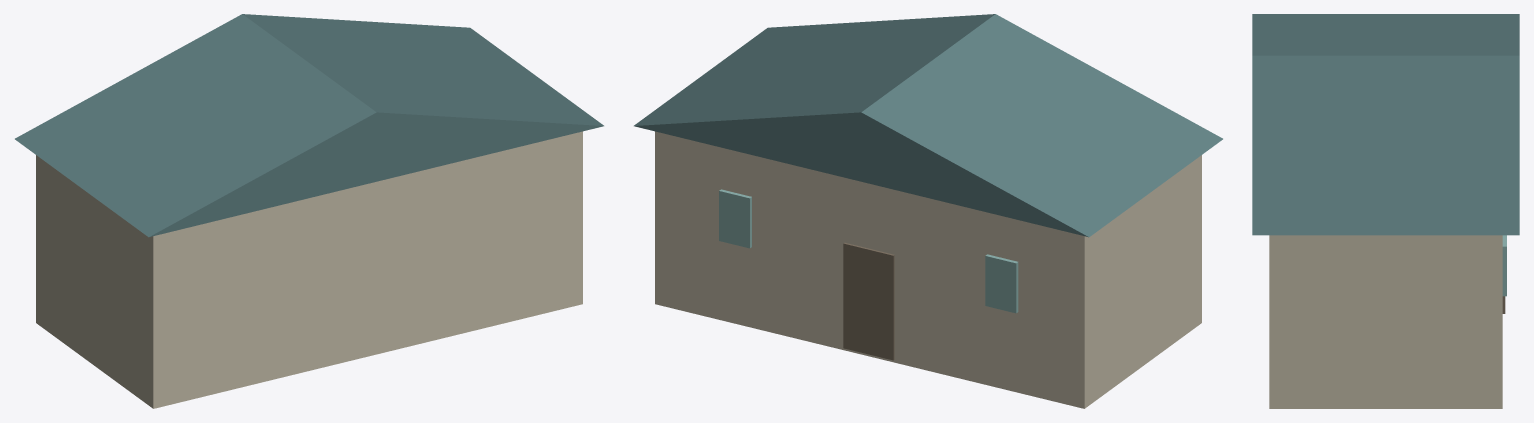
The model's file is city_library.glb.
The picture shows the model from 3 angles, left to right: view 1: azimuth 30°, elevation 25°; view 2: azimuth 150°, elevation 25°; view 3: azimuth 270°, elevation 25°; orthographic projection.
Parts seen in each view (by area): view 1: library; view 2: library; view 3: library.
Part boxes in pixels (<box>): library: <box>15,14,603,408</box>; library: <box>634,14,1222,408</box>; library: <box>1252,14,1519,408</box>.
Size of the model in its own units: 6.19 by 3.25 by 3.16.
